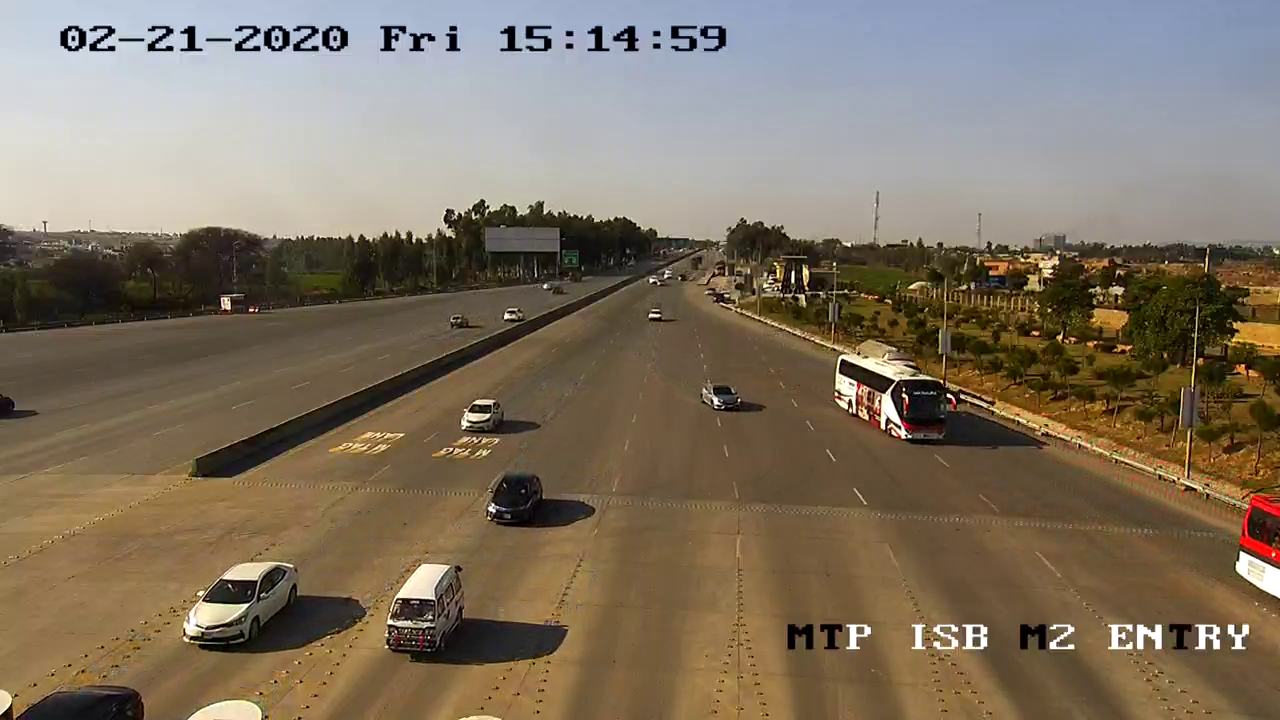f1: (176, 548, 312, 657), (378, 552, 475, 667), (481, 464, 553, 539), (454, 390, 513, 446)
f4: (829, 342, 971, 454)
